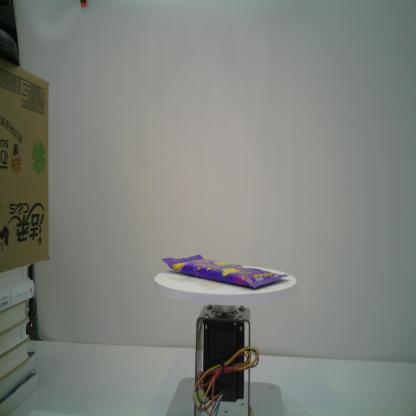Candy: (160, 252, 292, 291)
